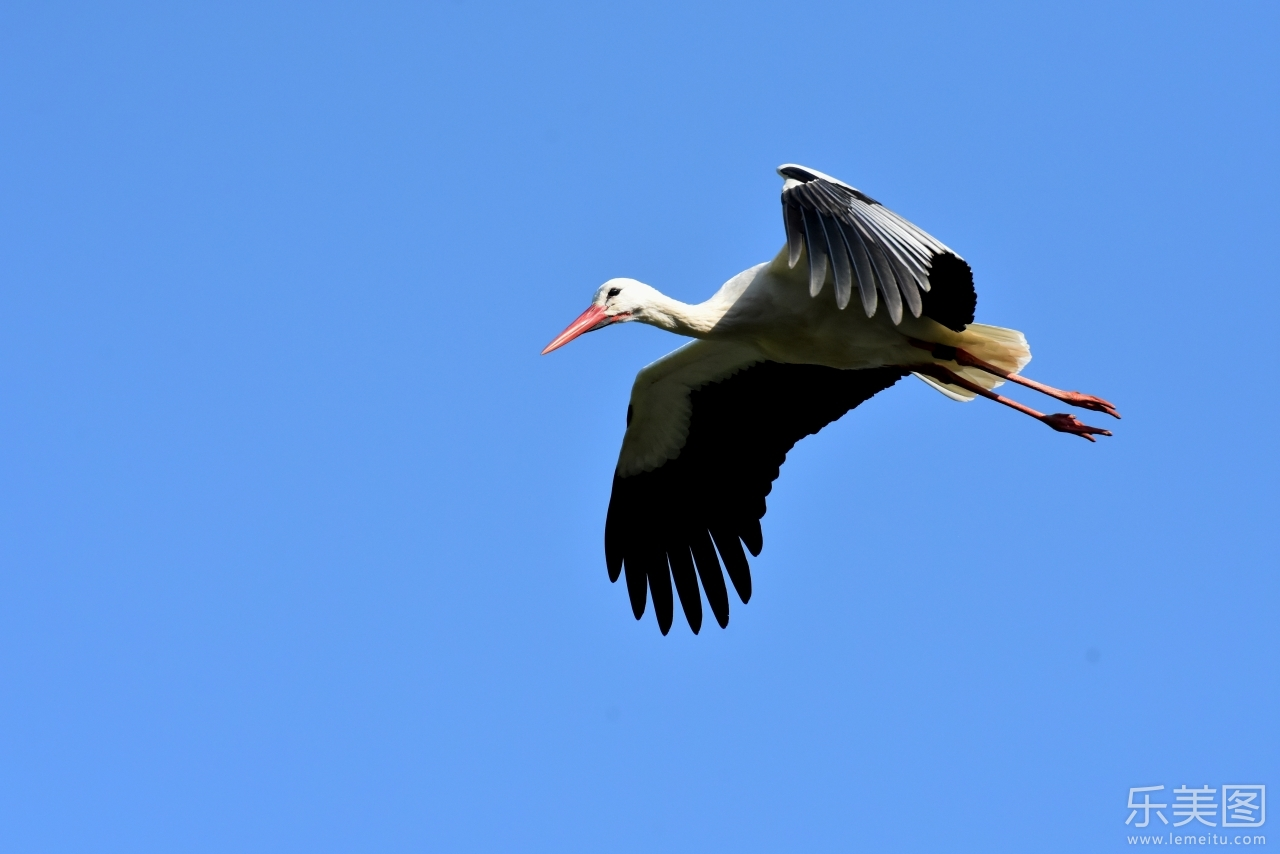bird: (530, 153, 1118, 651)
